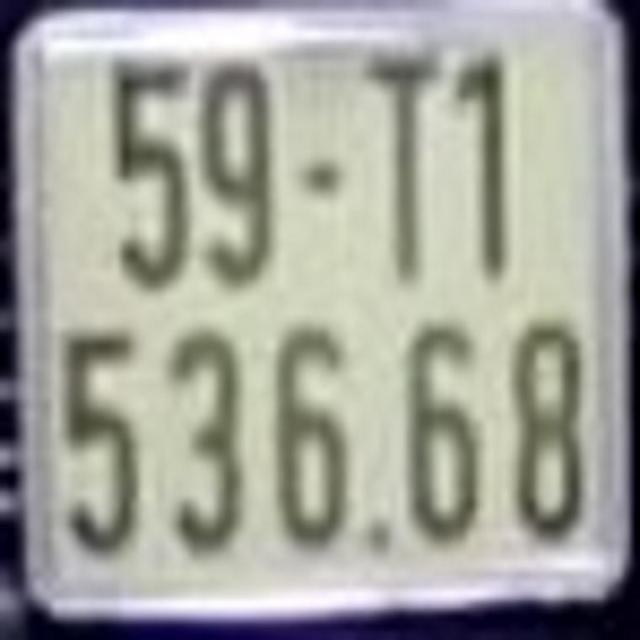1: (448, 52, 516, 282)
3: (162, 320, 245, 556)
5: (56, 326, 145, 558), (108, 60, 193, 292)
6: (404, 314, 486, 549), (272, 314, 346, 560)
8: (508, 302, 592, 548)
9: (196, 54, 276, 286)
T: (362, 49, 441, 281)
